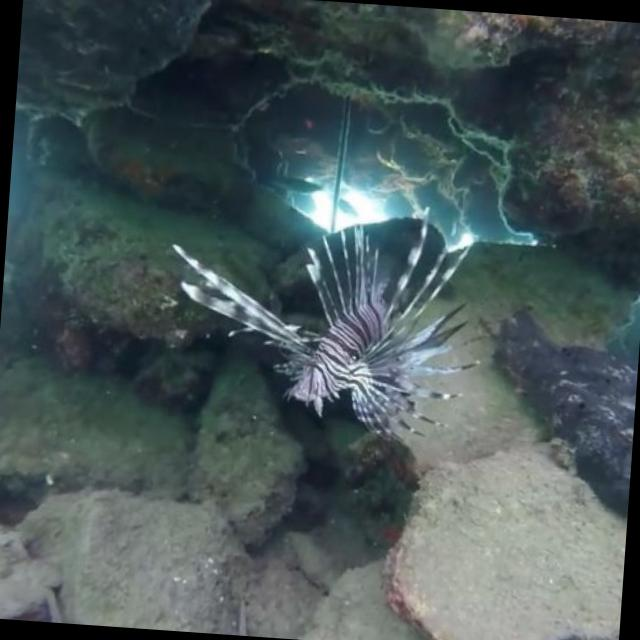Aslan Baligi: (157, 190, 491, 450)
